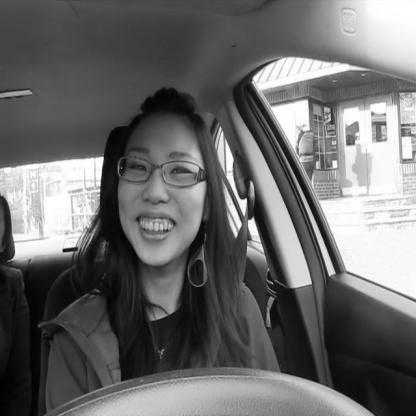seatbelt: (93, 88, 259, 410)
